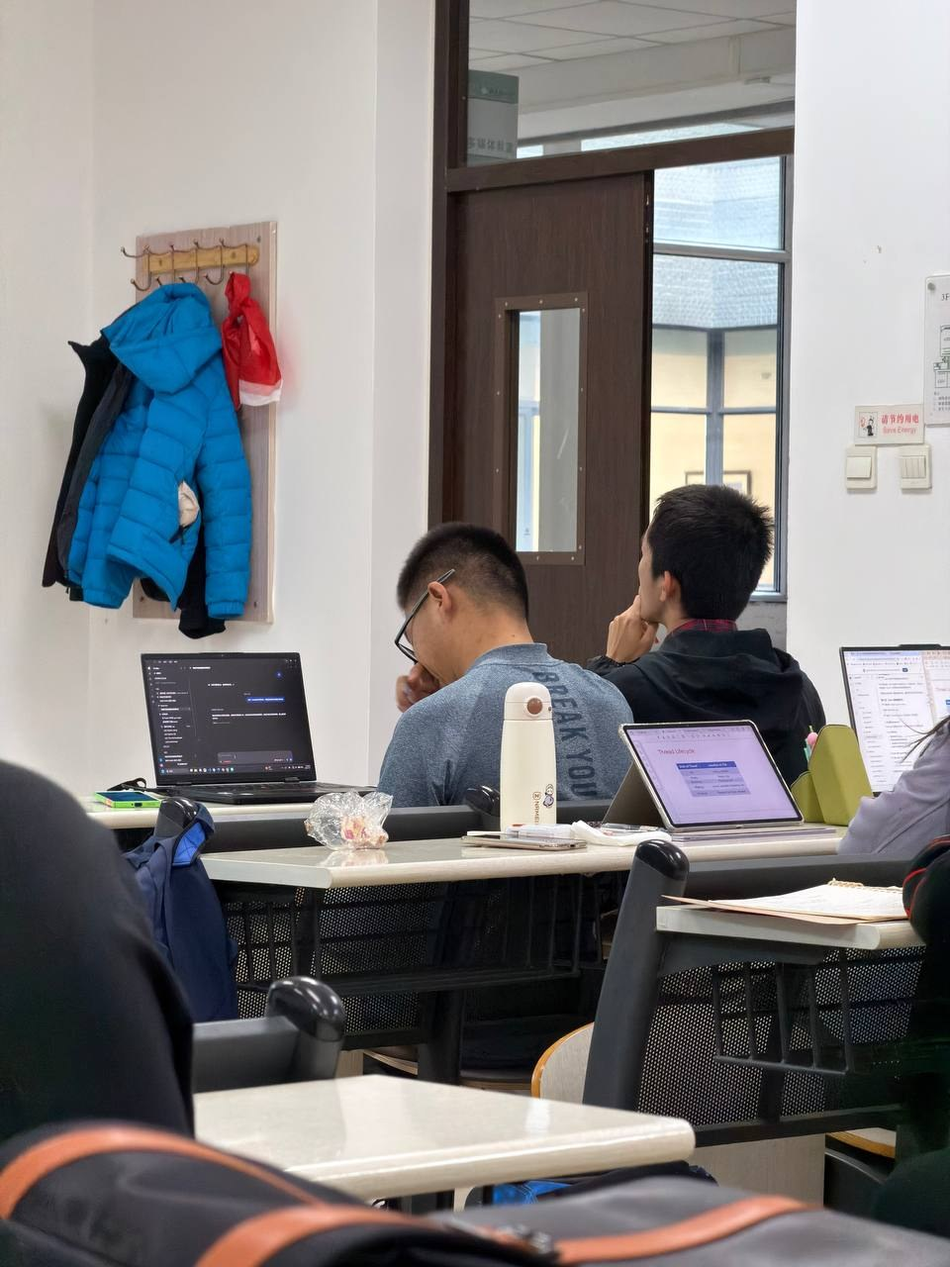cell phone: (461, 830, 587, 850), (94, 789, 162, 806)
laptop: (141, 651, 379, 804), (840, 644, 949, 795)
